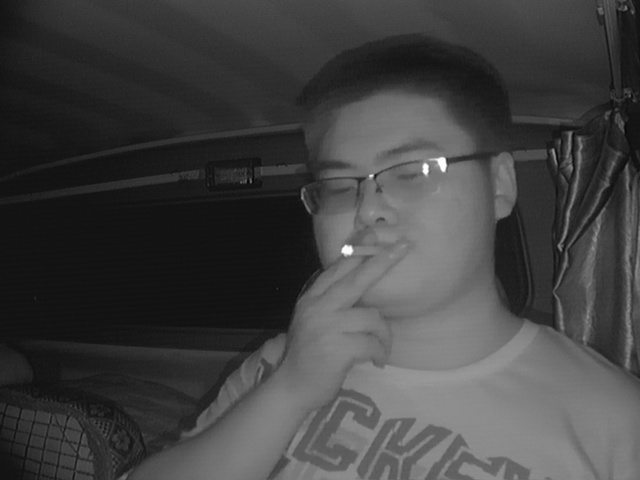hand: (297, 225, 422, 376)
